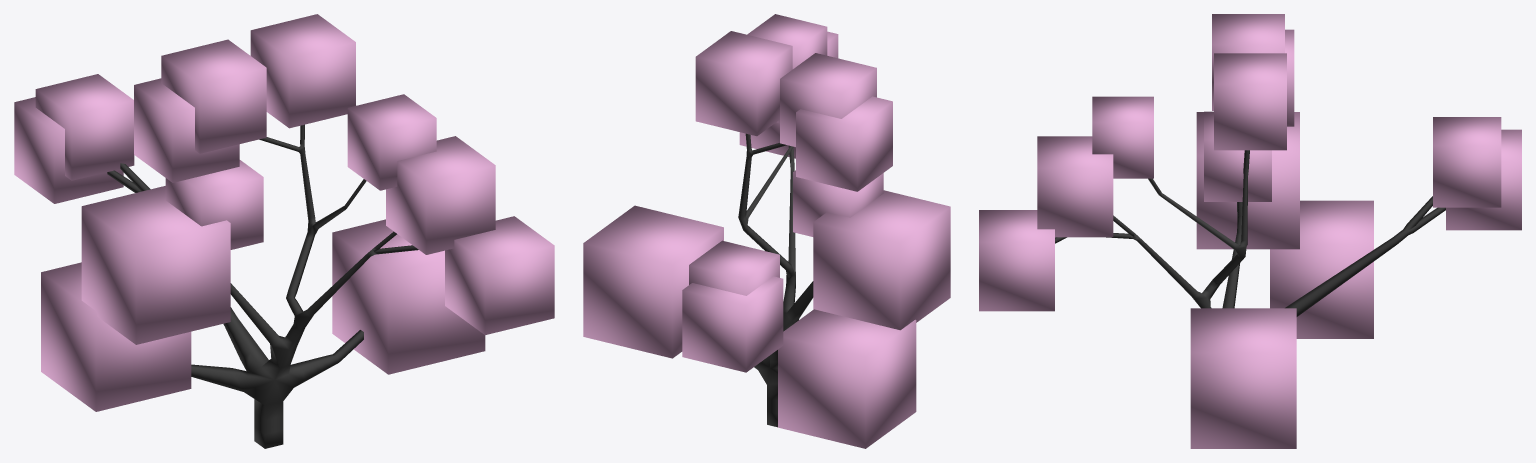
File: plant_variant_4.fbx
3 renders of one model, left to right at view 1: azimuth 30°, elevation 25°; view 2: azimuth 150°, elevation 25°; view 3: azimuth 270°, elevation 25°, orthographic. The views are drawn at different scales.
Parts seen in each view (by area): view 1: Vert.002, Vert; view 2: Vert.002, Vert; view 3: Vert.002, Vert.
Boxes of the visible parts, <box> form: Vert.002: <box>14,14,554,411</box>; Vert: <box>107,124,418,448</box>; Vert.002: <box>583,14,950,448</box>; Vert: <box>738,133,813,427</box>; Vert.002: <box>979,14,1521,448</box>; Vert: <box>1055,150,1445,316</box>.
Bounding box in the file's own units: 101 × 144 × 110.
